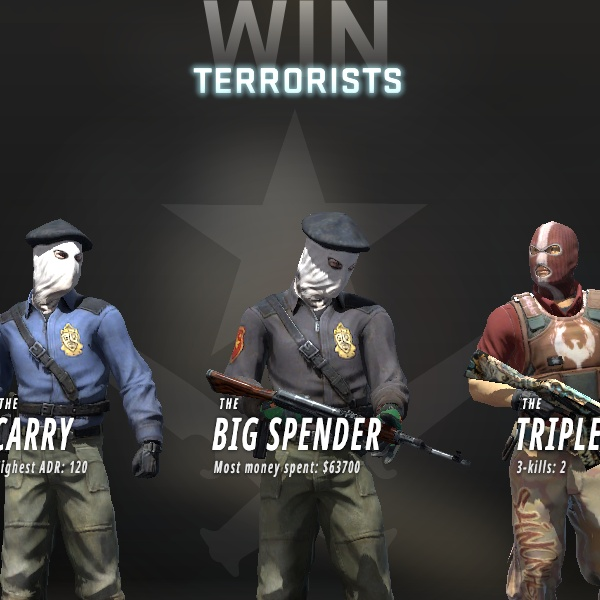t_body: (433, 200, 594, 600)
t_head: (502, 207, 600, 318)
